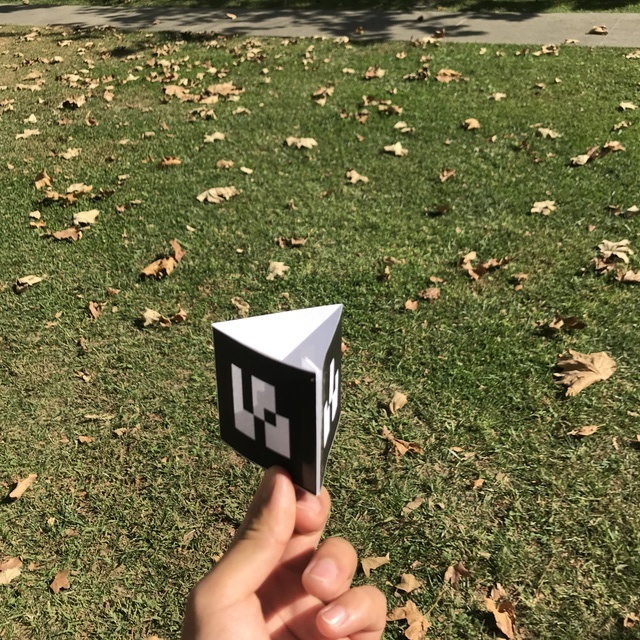ARTag: (211, 302, 344, 496)
